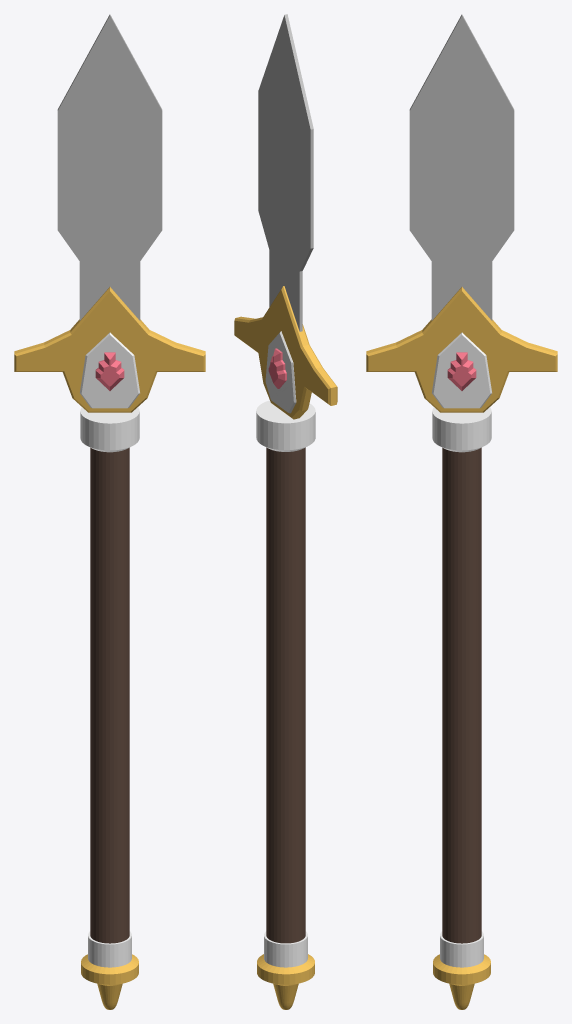
File: IronDagger.fbx
3 views of the same model, side by side, from view 1: azimuth 90°, elevation 25°; view 2: azimuth 210°, elevation 25°; view 3: azimuth 270°, elevation 25° (orthographic).
Visible parts, largest first — view 1: Spear11; view 2: Spear11; view 3: Spear11.
Part boxes in pixels (x1,y1,x2,y2): Spear11: [14, 14, 205, 1009]; Spear11: [234, 14, 337, 1009]; Spear11: [366, 14, 557, 1009].
Size of the model in its own units: 32.69 by 604 by 105.
